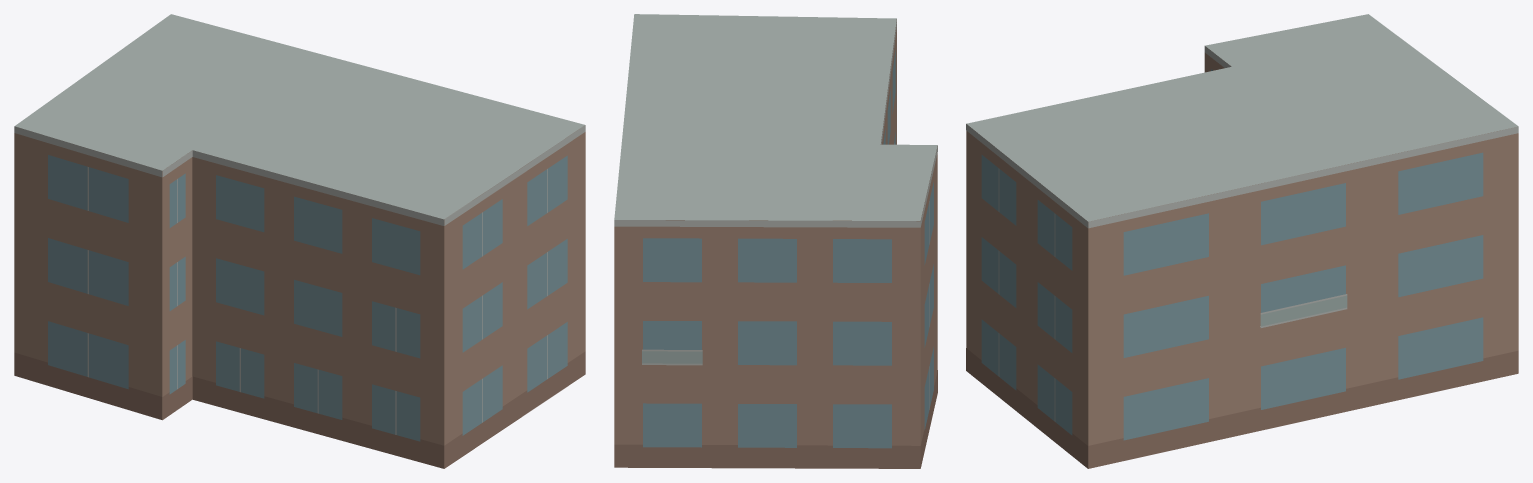
File: survey-upis-32805418.glb
3 renders of one model, left to right at view 1: azimuth 30°, elevation 25°; view 2: azimuth 150°, elevation 25°; view 3: azimuth 270°, elevation 25°, orthographic.
Visible parts, largest first — view 1: survey-upis-32805418.tmp; view 2: survey-upis-32805418.tmp; view 3: survey-upis-32805418.tmp.
Boxes of the visible parts, x1,y1,x2,y2 form: survey-upis-32805418.tmp: [14, 14, 585, 468]; survey-upis-32805418.tmp: [614, 14, 937, 468]; survey-upis-32805418.tmp: [966, 14, 1518, 468].
Size of the model in its own units: 16.23 by 9 by 18.25.
